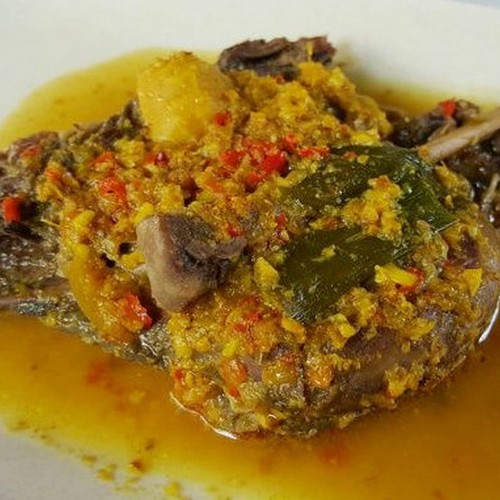ayam betutu: (6, 88, 500, 430)
